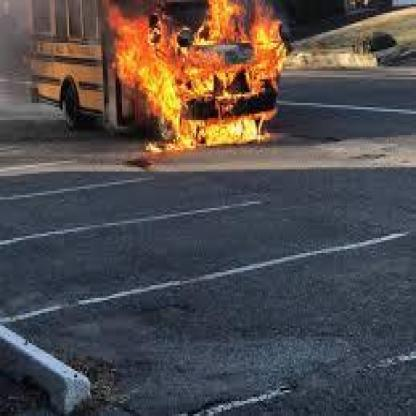fire: (88, 0, 310, 174)
